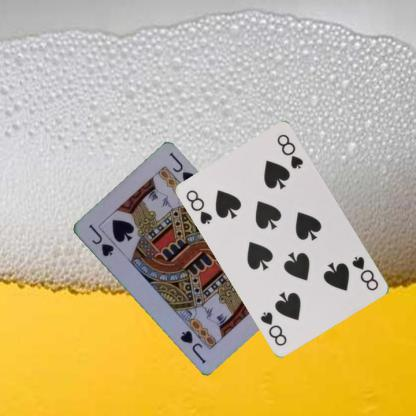8s: (184, 187, 214, 226), (350, 254, 380, 292)
Js: (85, 221, 115, 258)
